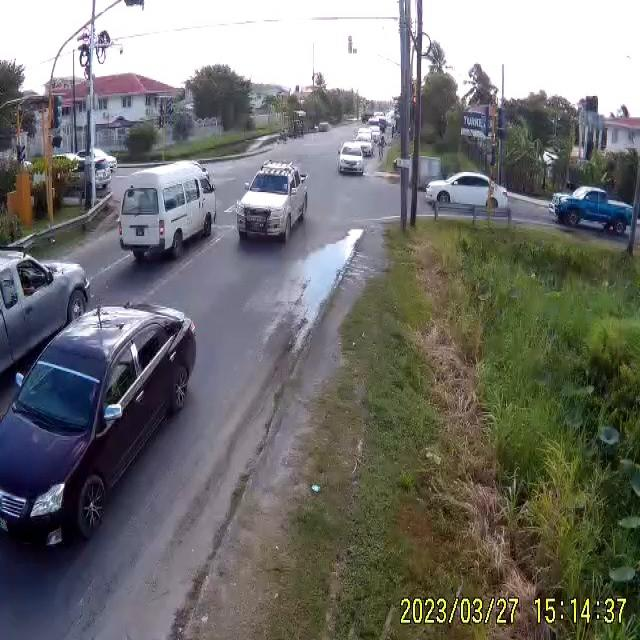car: (1, 308, 199, 550), (1, 251, 94, 425), (118, 165, 216, 261), (235, 165, 312, 244), (553, 188, 634, 232), (425, 172, 509, 210), (337, 143, 365, 176), (316, 123, 329, 132)
